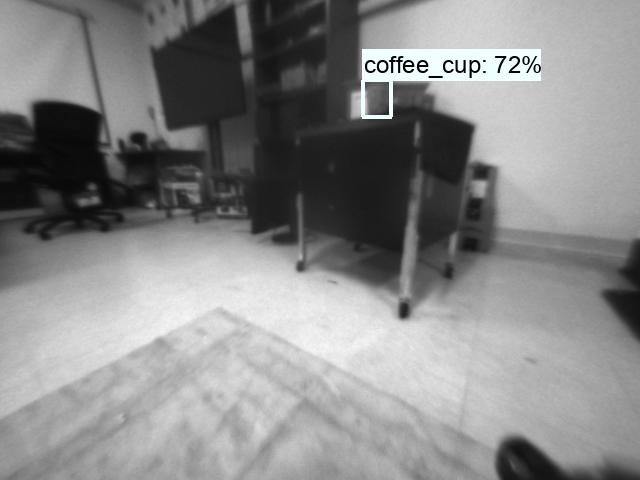coffee_cup: (363, 81, 392, 117)
